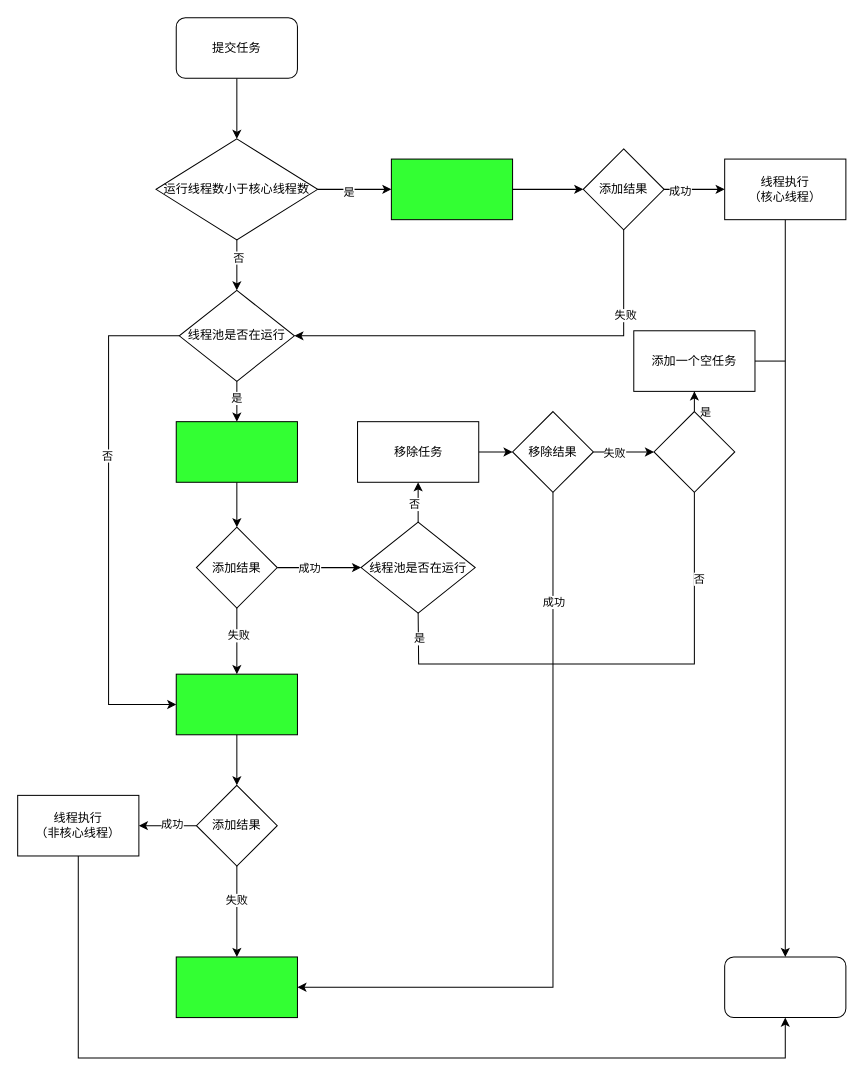
Image size: 864x1084. Some labels were removed from this diagram. The shapes that lost their labels are listed below. From the top down, each one's centre as x and y in pixels, then its label:
At pixel 451 189: "添加工作线程逻辑（核心线程）".
At pixel 236 451: "任务加到阻塞队列末尾".
At pixel 694 451: "运行线程数==0".
At pixel 236 704: "添加工作线程逻辑（非核心线程）".
At pixel 236 987: "线程拒绝".
At pixel 785 987: "结束".
